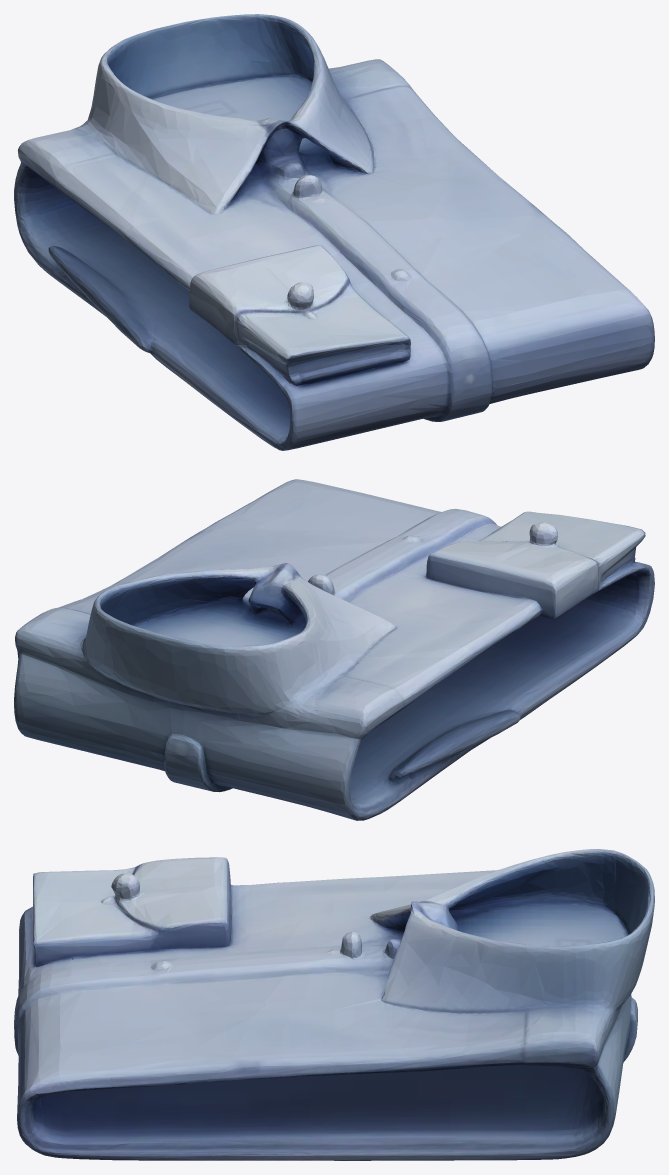
3 views of the same model, one above another, from view 1: azimuth 30°, elevation 25°; view 2: azimuth 150°, elevation 25°; view 3: azimuth 270°, elevation 25° (orthographic). The views are drawn at different scales.
Parts seen in each view (by area): view 1: geometry_0; view 2: geometry_0; view 3: geometry_0.
Part boxes in pixels (x1,y1,x2,y2): geometry_0: (14,14,654,450); geometry_0: (14,479,654,820); geometry_0: (14,849,654,1160).
Bounding box in the file's own units: 0.7002 × 0.322 × 0.996.
Materials: 1 (1 with a texture image).
